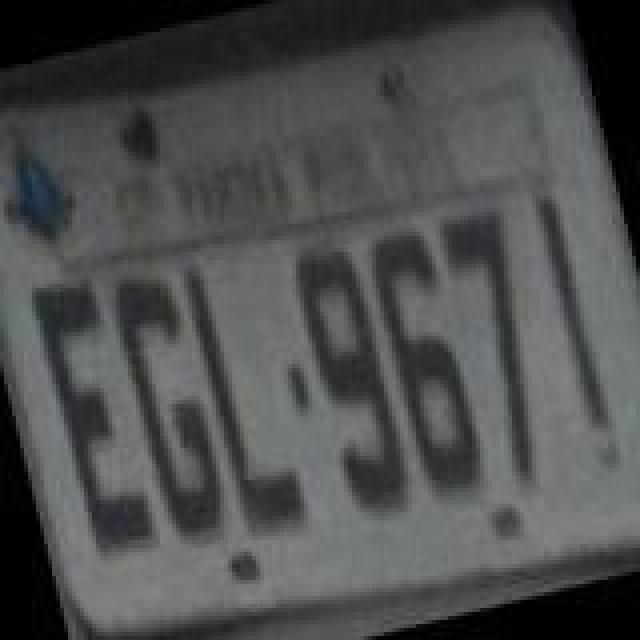1: (526, 184, 618, 440)
6: (358, 218, 490, 502)
7: (432, 198, 568, 490)
9: (286, 234, 418, 518)
E: (28, 268, 164, 564)
G: (102, 266, 234, 550)
L: (182, 248, 314, 536)
